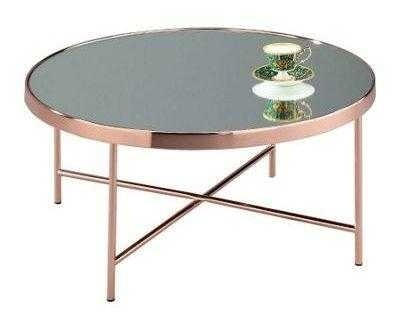obstacle: (25, 28, 374, 300)
